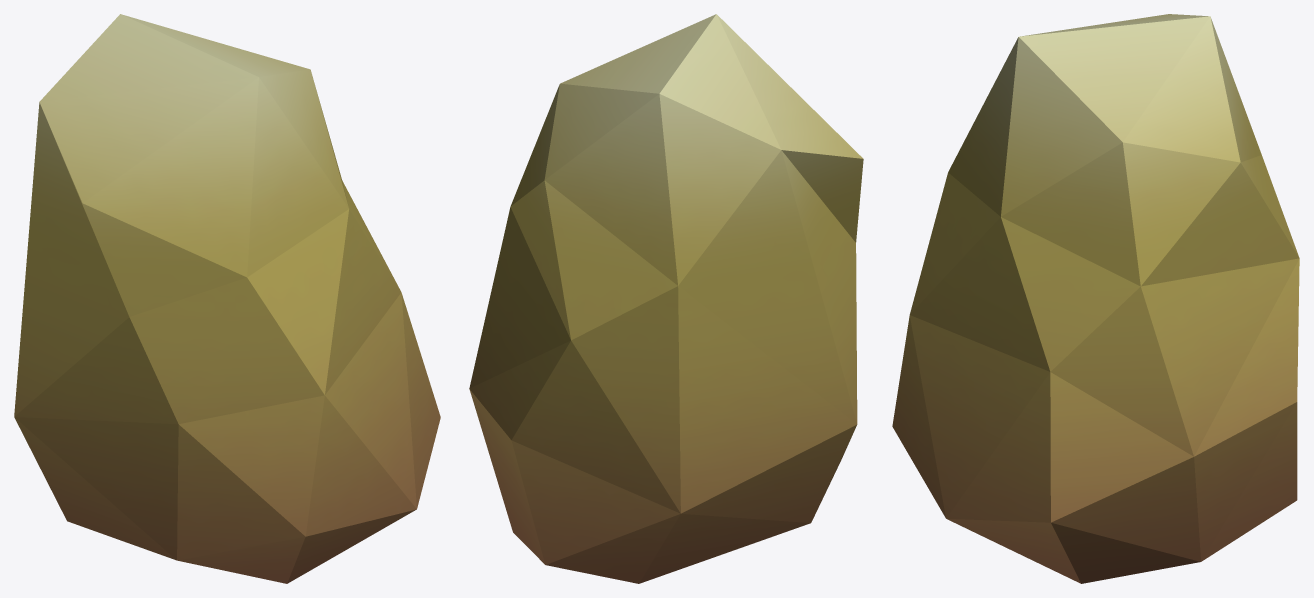
3 views of the same model, side by side, from view 1: azimuth 30°, elevation 25°; view 2: azimuth 150°, elevation 25°; view 3: azimuth 270°, elevation 25° (orthographic). The views are drawn at different scales.
Parts seen in each view (by area): view 1: Base_05; view 2: Base_05; view 3: Base_05.
Boxes of the visible parts, bbox=[...] form: Base_05: bbox=[14, 14, 440, 583]; Base_05: bbox=[469, 14, 863, 583]; Base_05: bbox=[892, 14, 1299, 583].
Size of the model in its own units: 0.5981 by 0.7489 by 0.5511.
